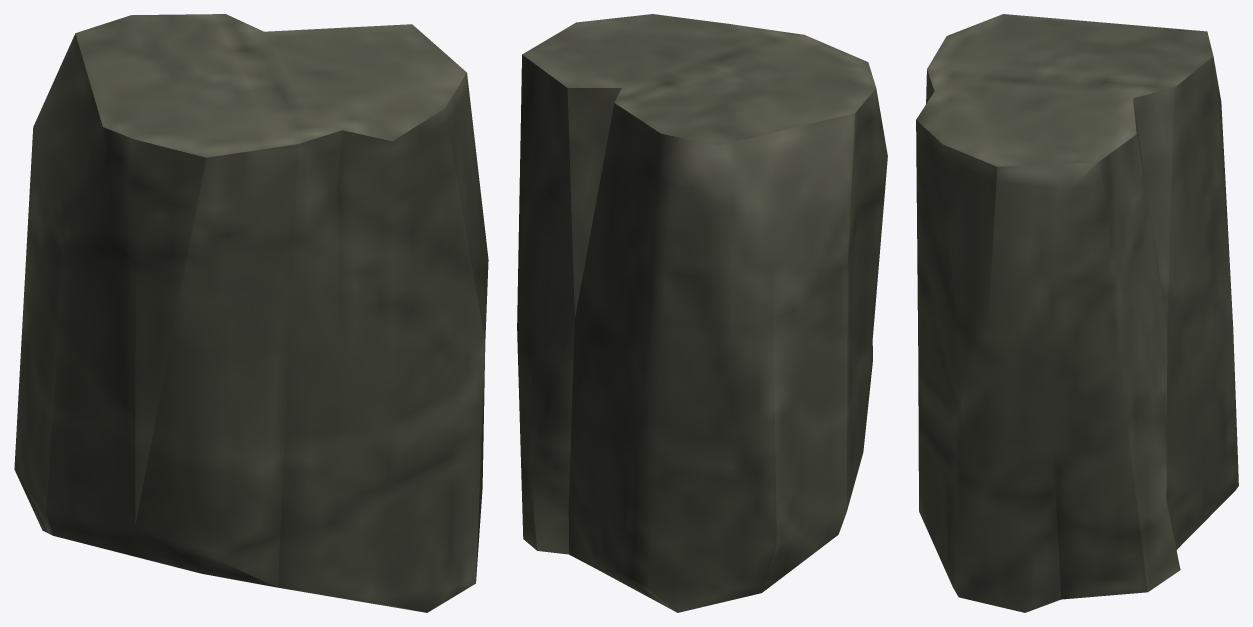
Rendered from Rock_08.fbx.
3 views of the same model, side by side, from view 1: azimuth 30°, elevation 25°; view 2: azimuth 150°, elevation 25°; view 3: azimuth 270°, elevation 25° (orthographic). The views are drawn at different scales.
Parts seen in each view (by area): view 1: Rock_08; view 2: Rock_08; view 3: Rock_08.
Boxes of the visible parts, box(x1,y1,x2,y2) form: Rock_08: box(14, 14, 488, 612); Rock_08: box(517, 14, 887, 612); Rock_08: box(916, 14, 1238, 612).
Size of the model in its own units: 215 by 289 by 181.
Materials: 1 (1 with a texture image).
